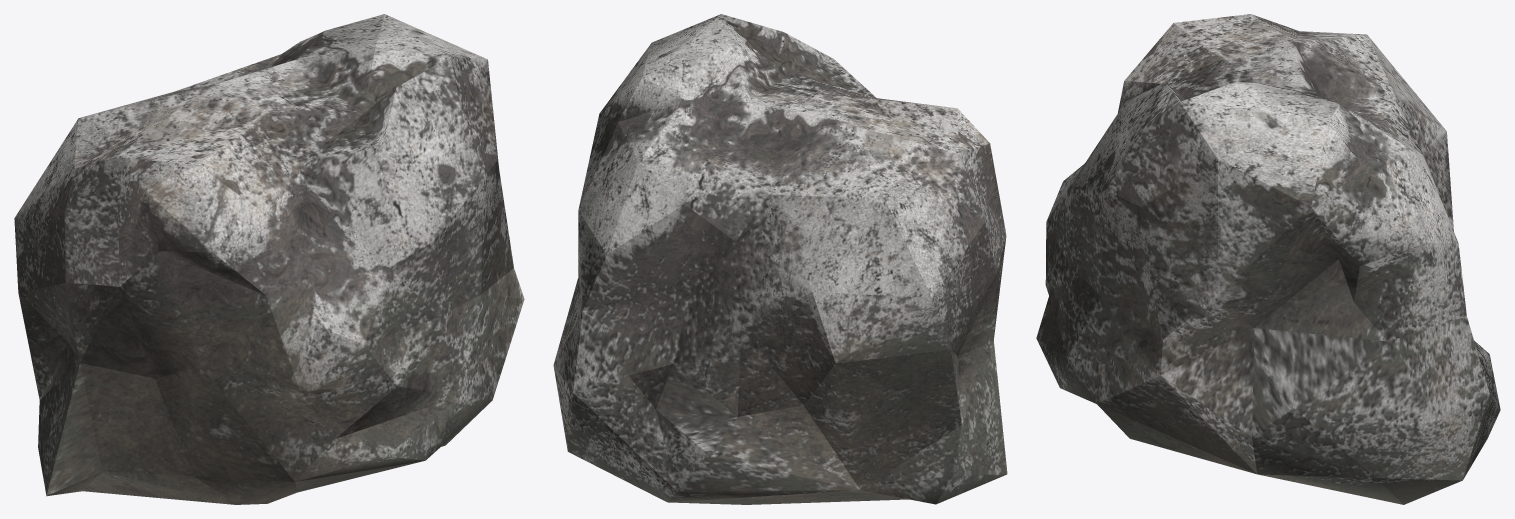
File: rock1_LOD2.fbx
The picture shows the model from 3 angles, left to right: view 1: azimuth 30°, elevation 25°; view 2: azimuth 150°, elevation 25°; view 3: azimuth 270°, elevation 25°; orthographic projection. The views are drawn at different scales.
Visible parts, largest first — view 1: rock1_LOD2; view 2: rock1_LOD2; view 3: rock1_LOD2.
Part boxes in pixels (<box>): rock1_LOD2: <box>14,14,524,504</box>; rock1_LOD2: <box>553,14,1007,504</box>; rock1_LOD2: <box>1036,14,1500,504</box>.
Bounding box in the file's own units: 792 × 746 × 757.
Materials: 1 (1 with a texture image).
